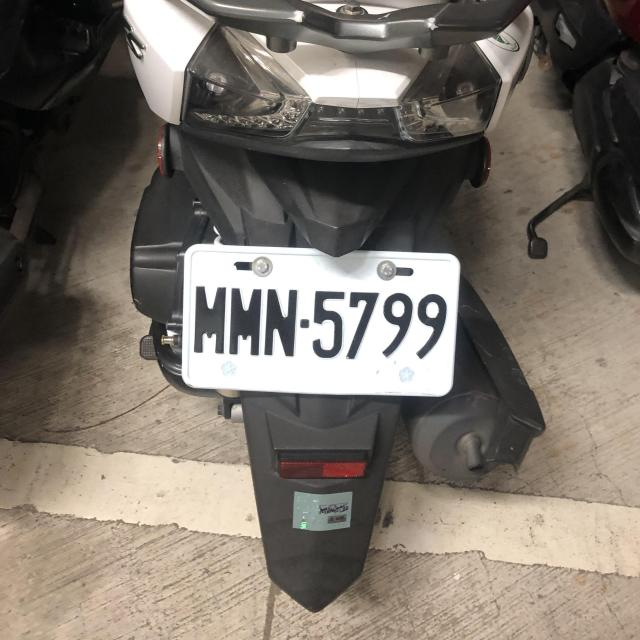W: (178, 243, 460, 399)
